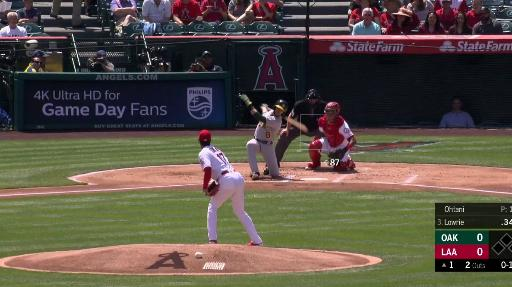pitcher: (197, 129, 267, 248)
